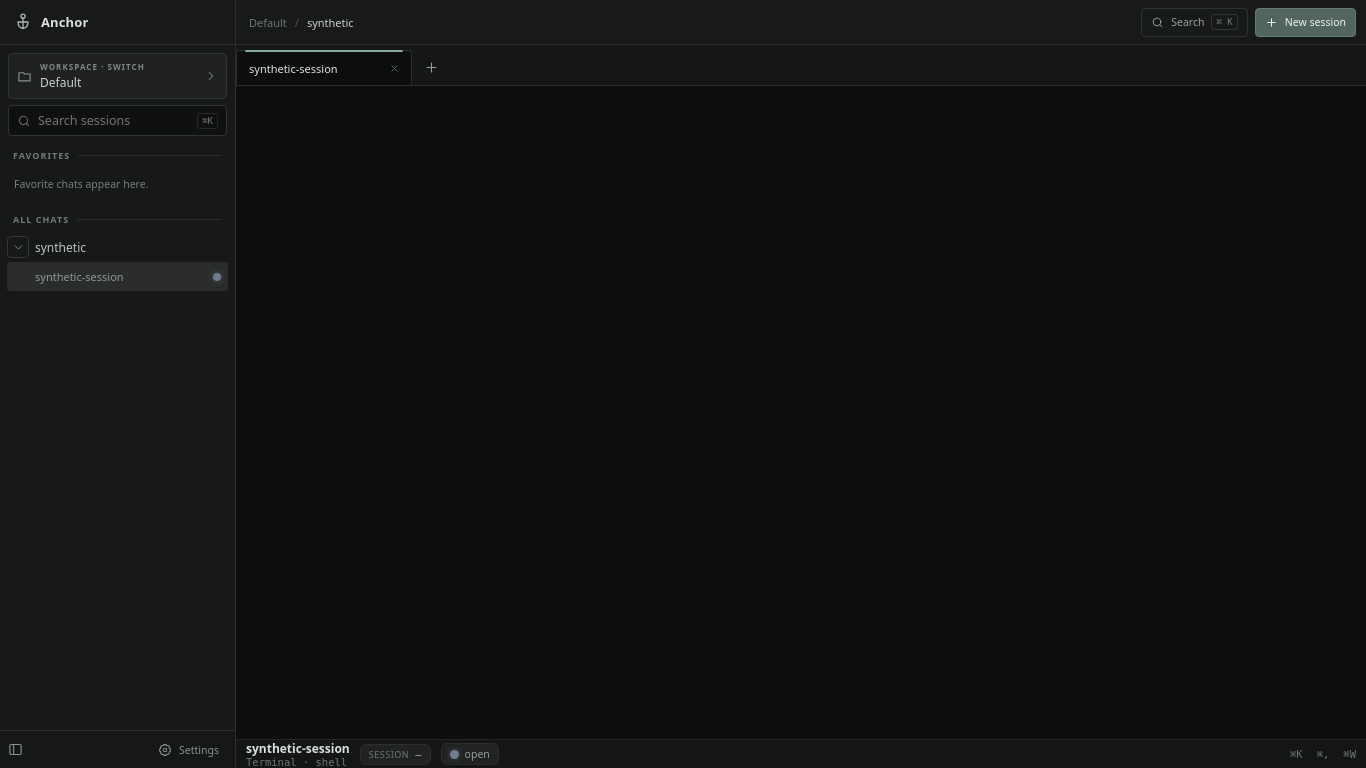
Test: closeTab › keeps a tab reopened during shutdown alive
Click the button named "Close tab" at (394, 68), box [383,56,406,80]
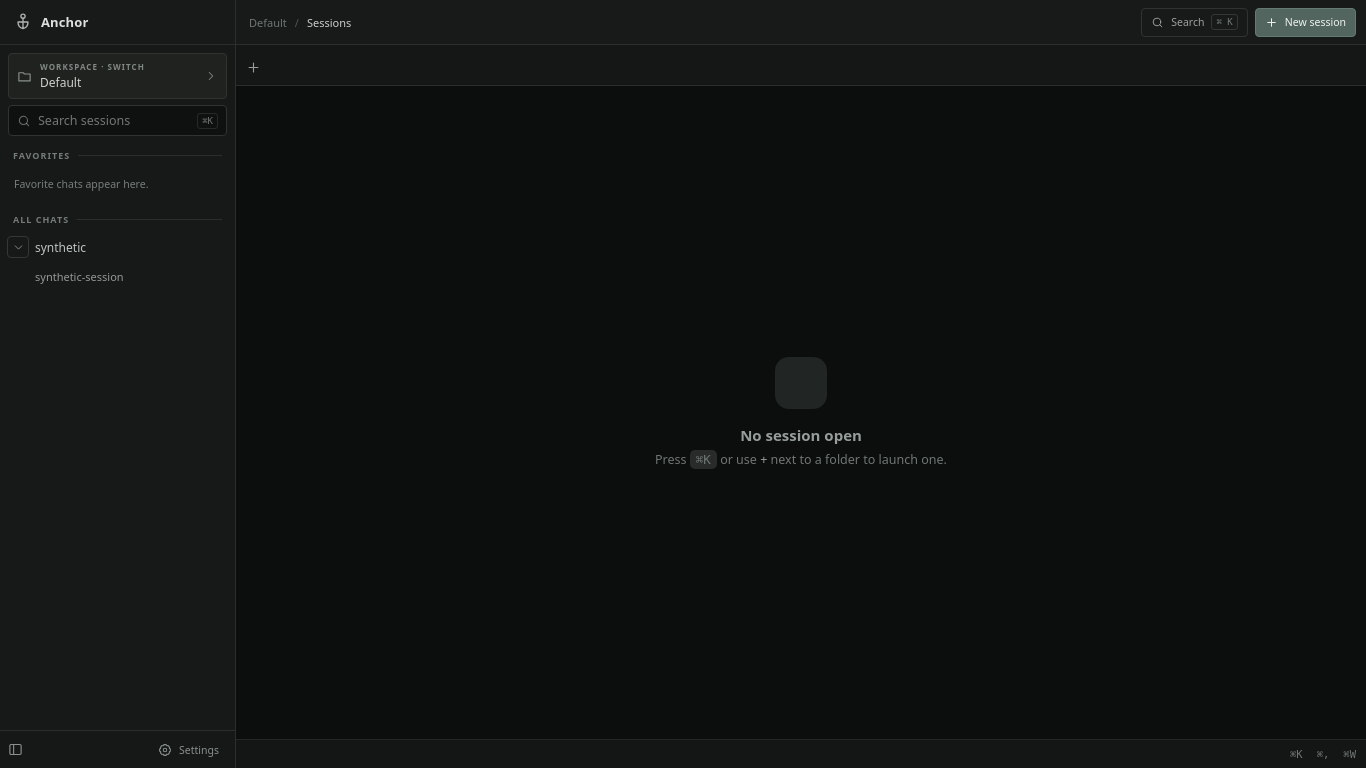
Click the text "synthetic-session" at (79, 276), box [35,269,124,284]
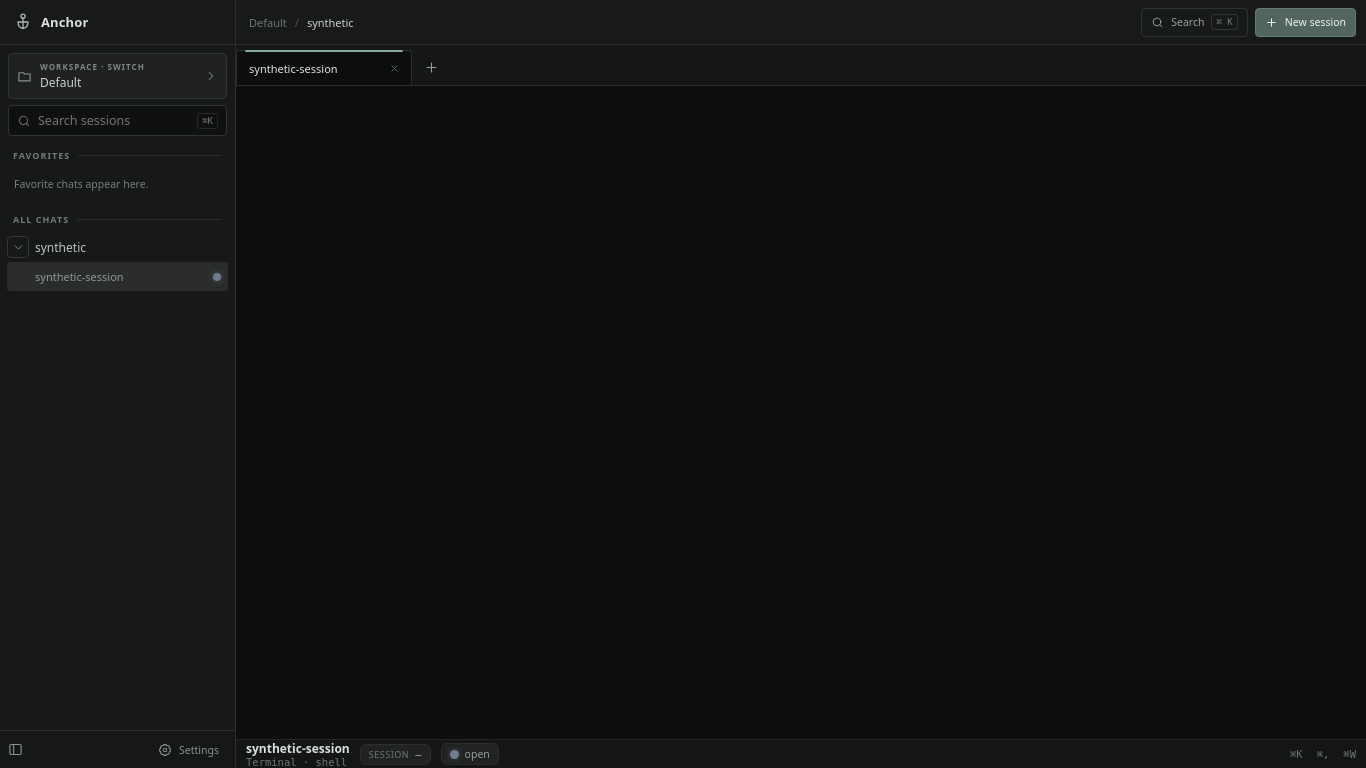
Expected: the button named "Close tab" is shown, [383,56,406,80]
